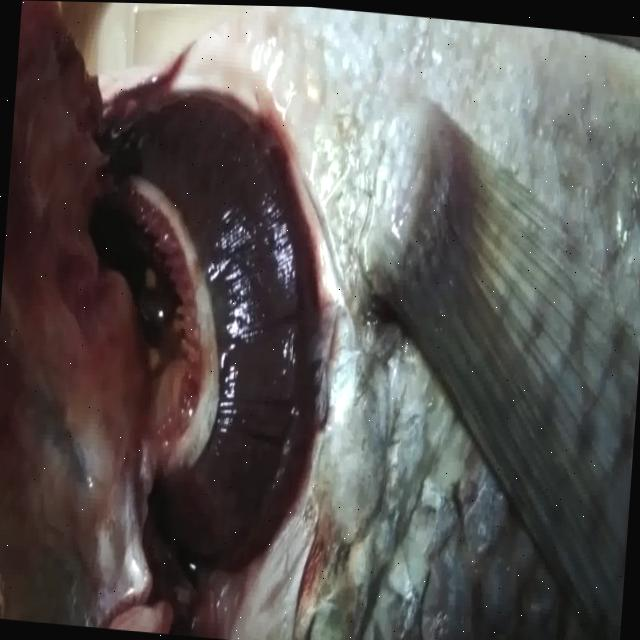Non-Fresh: (13, 48, 376, 611)
